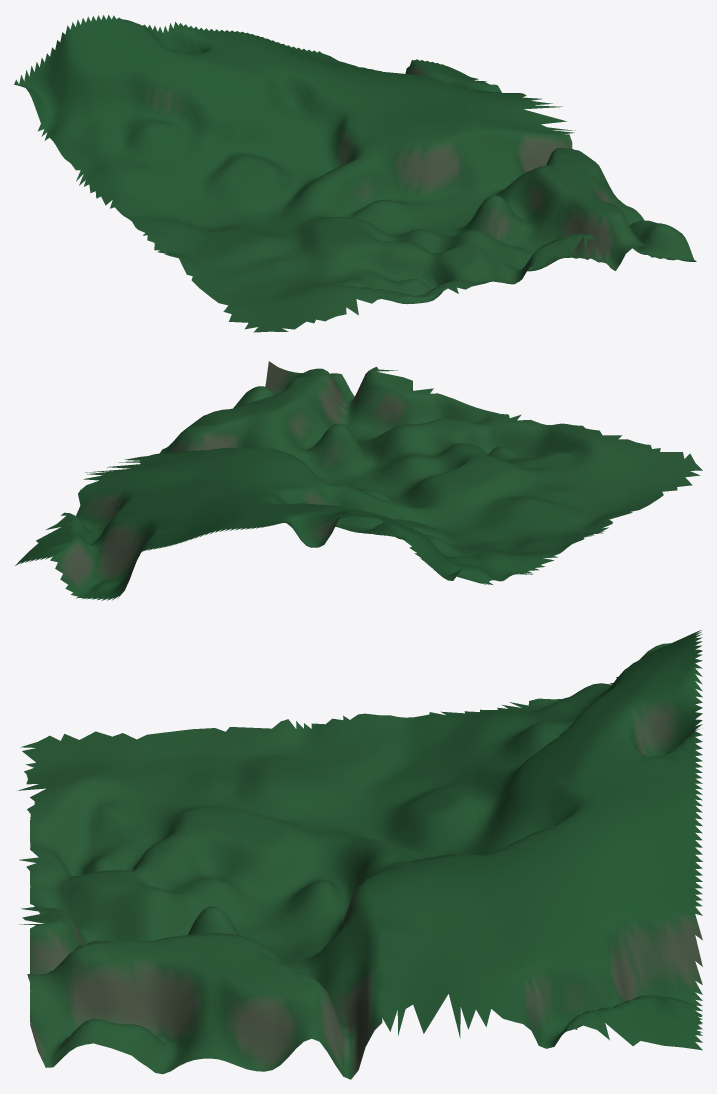
The model's file is payo_land_x0_y5.glb.
3 renders of one model, top to bottom at view 1: azimuth 30°, elevation 25°; view 2: azimuth 150°, elevation 25°; view 3: azimuth 270°, elevation 25°, orthographic. The views are drawn at different scales.
Visible parts, largest first — view 1: payo_land_x0_y5; view 2: payo_land_x0_y5; view 3: payo_land_x0_y5.
Part boxes in pixels (x1,y1,x2,y2): payo_land_x0_y5: (14, 15, 696, 332); payo_land_x0_y5: (15, 361, 702, 600); payo_land_x0_y5: (18, 630, 702, 1079).
Bounding box in the file's own units: 277 × 89.36 × 264.
